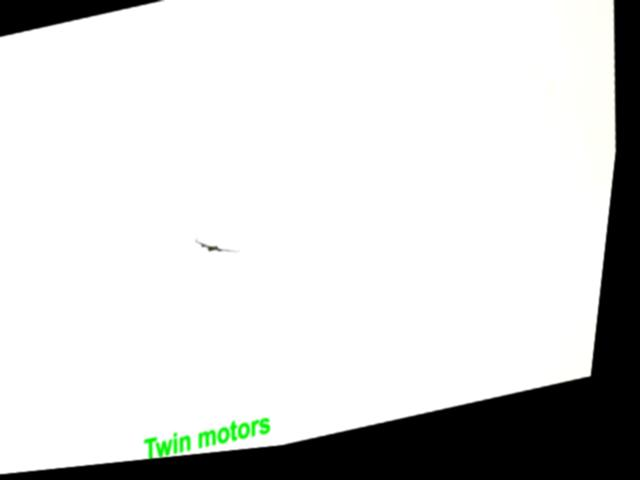plane: (200, 235, 248, 268)
